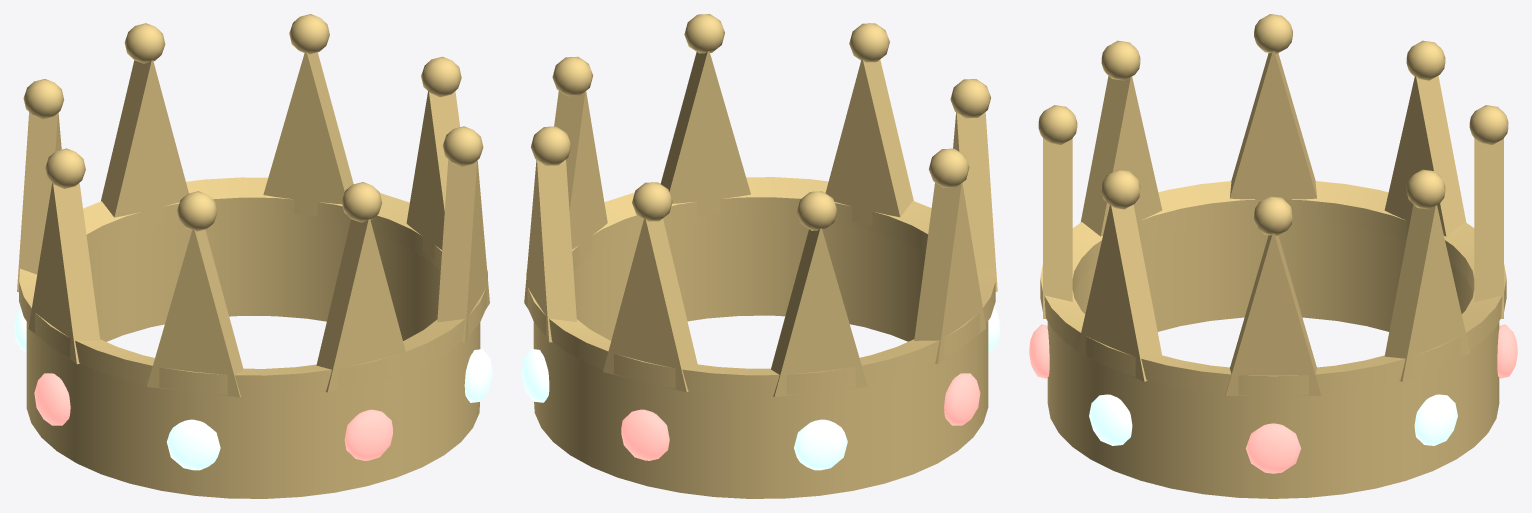
The model's file is top_crown.fbx.
3 renders of one model, left to right at view 1: azimuth 30°, elevation 25°; view 2: azimuth 150°, elevation 25°; view 3: azimuth 270°, elevation 25°, orthographic.
Visible parts, largest first — view 1: gold_1, lens_blue_1, lens_red_1; view 2: gold_1, lens_blue_1, lens_red_1; view 3: gold_1, lens_red_1, lens_blue_1.
Boxes of the visible parts, x1,y1,x2,y2 form: gold_1: (17, 14, 489, 498); lens_blue_1: (14, 307, 492, 470); lens_red_1: (34, 373, 392, 460); gold_1: (524, 14, 997, 498); lens_blue_1: (521, 306, 1000, 470); lens_red_1: (621, 373, 980, 460); gold_1: (1038, 14, 1508, 498); lens_red_1: (1029, 324, 1517, 473); lens_blue_1: (1089, 394, 1457, 445).
Bounding box in the file's own units: 0.0487 × 0.0327 × 0.0487.
